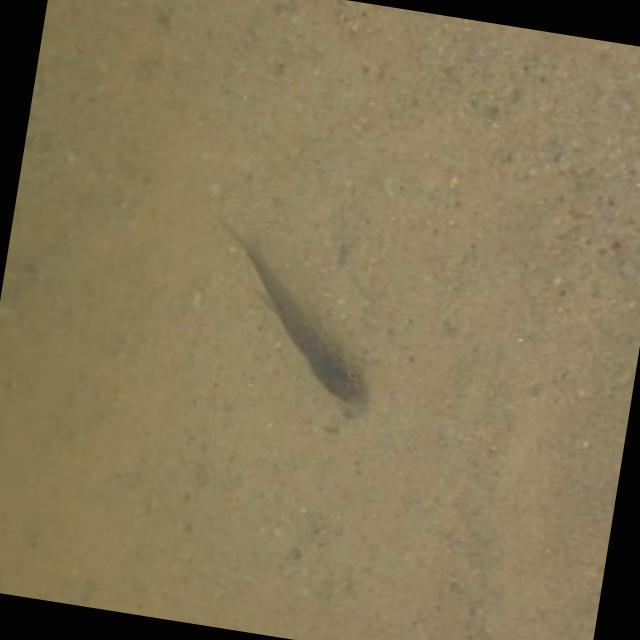Cakil Baligi: (184, 210, 391, 408)
